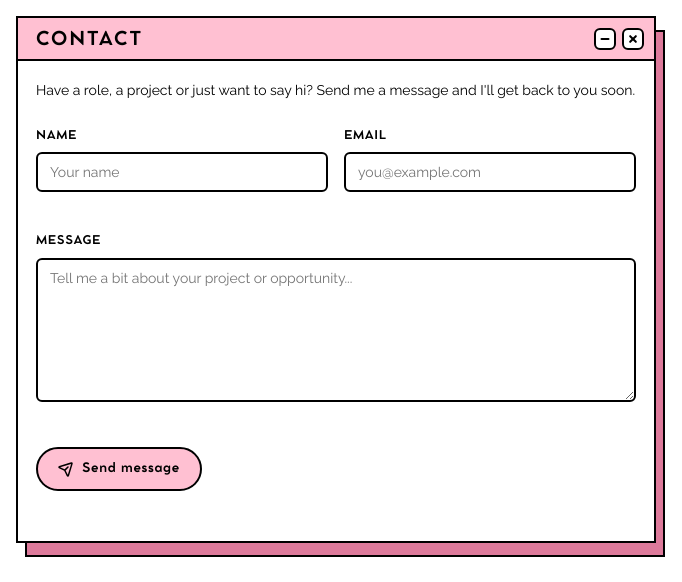
Scenario: Contact form › shows an error for an invalid email
Type "Jane Doe" into the field labelled "Name" at x=182, y=172, box [36, 152, 328, 192]
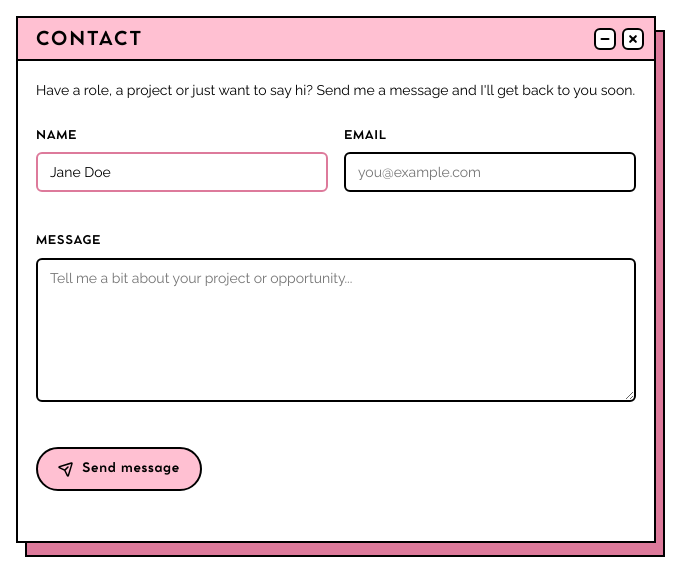
Type "not-an-email" into the field labelled "Email" at x=490, y=172, box [344, 152, 636, 192]
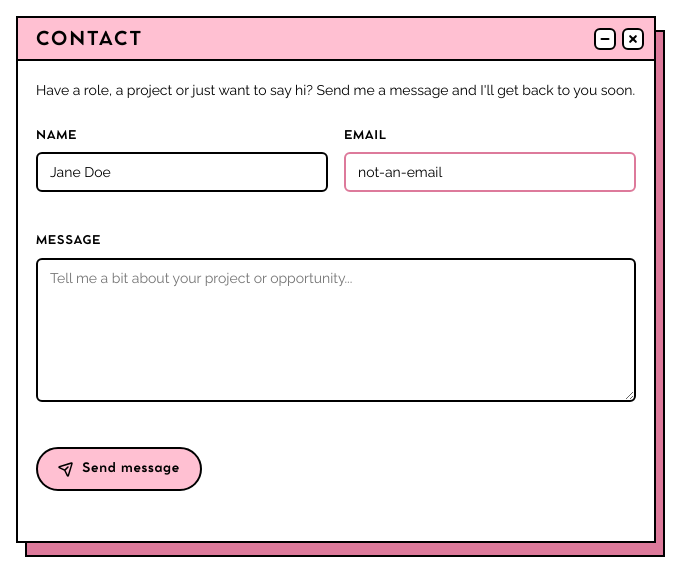
Type "Hello there" into the text box labelled "Message" at x=336, y=330, box [36, 258, 636, 402]
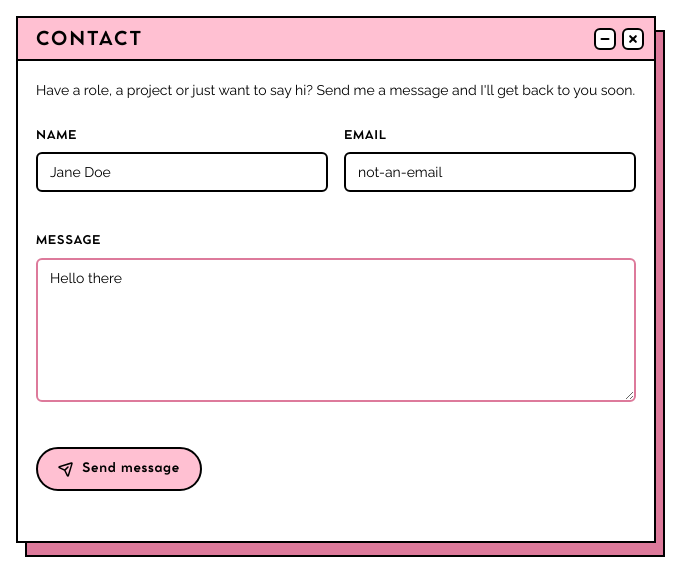
Click the button "Send message" at x=119, y=469, box [36, 447, 202, 491]
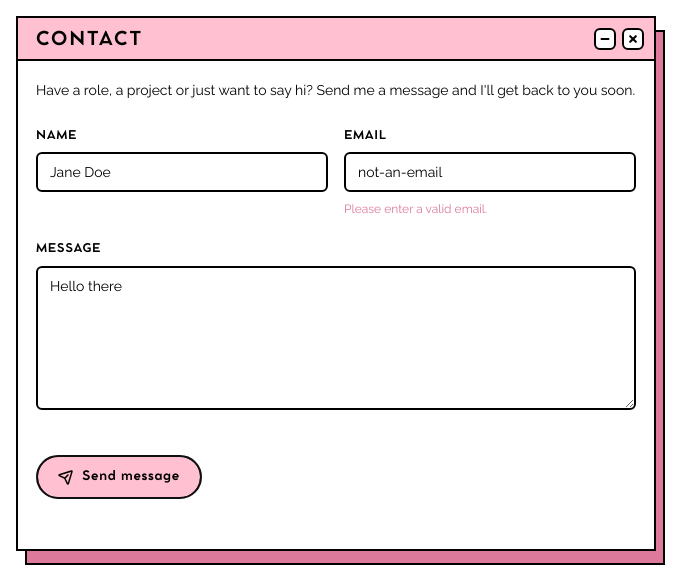
Check: the text "Please enter a valid email." is shown, box [344, 202, 487, 216]
